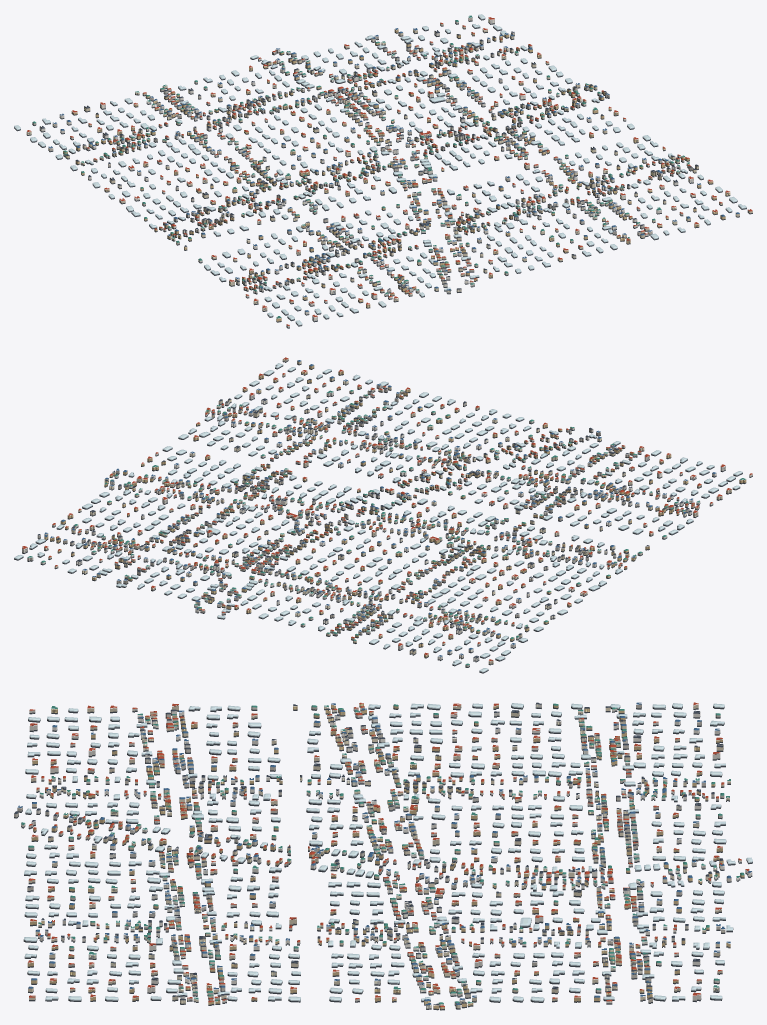
File: osm_buildings_T_W03_N00.glb
3 renders of one model, top to bottom at view 1: azimuth 30°, elevation 25°; view 2: azimuth 150°, elevation 25°; view 3: azimuth 270°, elevation 25°, orthographic. The views are drawn at different scales.
Visible parts, largest first — view 1: OSM_T_W03_N00_foundation, OSM_T_W03_N00_greenhouse_blend, OSM_T_W03_N00_wall_french_ochre, OSM_T_W03_N00_wall_cream_stucco, OSM_T_W03_N00_wall_warm_white, OSM_T_W03_N00_wall_pastel_sand, OSM_T_W03_N00_roof_terracotta, OSM_T_W03_N00_roof_mansard_slate, OSM_T_W03_N00_roof_mint_metal, OSM_T_W03_N00_roof_alpine_blue; view 2: OSM_T_W03_N00_foundation, OSM_T_W03_N00_greenhouse_blend, OSM_T_W03_N00_wall_french_ochre, OSM_T_W03_N00_wall_cream_stucco, OSM_T_W03_N00_wall_warm_white, OSM_T_W03_N00_wall_pastel_sand, OSM_T_W03_N00_roof_terracotta, OSM_T_W03_N00_roof_mansard_slate, OSM_T_W03_N00_roof_mint_metal, OSM_T_W03_N00_roof_alpine_blue; view 3: OSM_T_W03_N00_foundation, OSM_T_W03_N00_greenhouse_blend, OSM_T_W03_N00_wall_cream_stucco, OSM_T_W03_N00_wall_french_ochre, OSM_T_W03_N00_wall_warm_white, OSM_T_W03_N00_roof_terracotta, OSM_T_W03_N00_wall_pastel_sand, OSM_T_W03_N00_roof_mansard_slate, OSM_T_W03_N00_roof_mint_metal, OSM_T_W03_N00_roof_alpine_blue.
Part boxes in pixels (x1,y1,x2,y2): OSM_T_W03_N00_foundation: (14,16,752,328); OSM_T_W03_N00_greenhouse_blend: (14,14,746,325); OSM_T_W03_N00_wall_french_ochre: (63,29,730,321); OSM_T_W03_N00_wall_cream_stucco: (26,23,752,310); OSM_T_W03_N00_wall_warm_white: (39,18,693,327); OSM_T_W03_N00_wall_pastel_sand: (32,17,689,293); OSM_T_W03_N00_roof_terracotta: (27,17,752,325); OSM_T_W03_N00_roof_mansard_slate: (40,30,698,289); OSM_T_W03_N00_roof_mint_metal: (32,15,689,318); OSM_T_W03_N00_roof_alpine_blue: (48,28,739,311); OSM_T_W03_N00_foundation: (14,360,752,673); OSM_T_W03_N00_greenhouse_blend: (14,363,742,672); OSM_T_W03_N00_wall_french_ochre: (44,365,746,657); OSM_T_W03_N00_wall_cream_stucco: (44,358,731,664); OSM_T_W03_N00_wall_warm_white: (22,386,752,661); OSM_T_W03_N00_wall_pastel_sand: (27,383,689,666); OSM_T_W03_N00_roof_terracotta: (22,357,752,661); OSM_T_W03_N00_roof_mansard_slate: (38,379,691,658); OSM_T_W03_N00_roof_mint_metal: (27,390,745,665); OSM_T_W03_N00_roof_alpine_blue: (44,360,715,656); OSM_T_W03_N00_foundation: (14,706,752,1010); OSM_T_W03_N00_greenhouse_blend: (23,703,752,1001); OSM_T_W03_N00_wall_cream_stucco: (28,705,730,1008); OSM_T_W03_N00_wall_french_ochre: (27,704,744,1009); OSM_T_W03_N00_wall_warm_white: (21,703,752,1006); OSM_T_W03_N00_roof_terracotta: (28,702,749,1006); OSM_T_W03_N00_wall_pastel_sand: (14,703,749,1008); OSM_T_W03_N00_roof_mansard_slate: (14,702,723,1005); OSM_T_W03_N00_roof_mint_metal: (21,703,744,1004); OSM_T_W03_N00_roof_alpine_blue: (17,702,751,1005).
Bounding box in the file's own units: 1912 × 36.18 × 1979.
